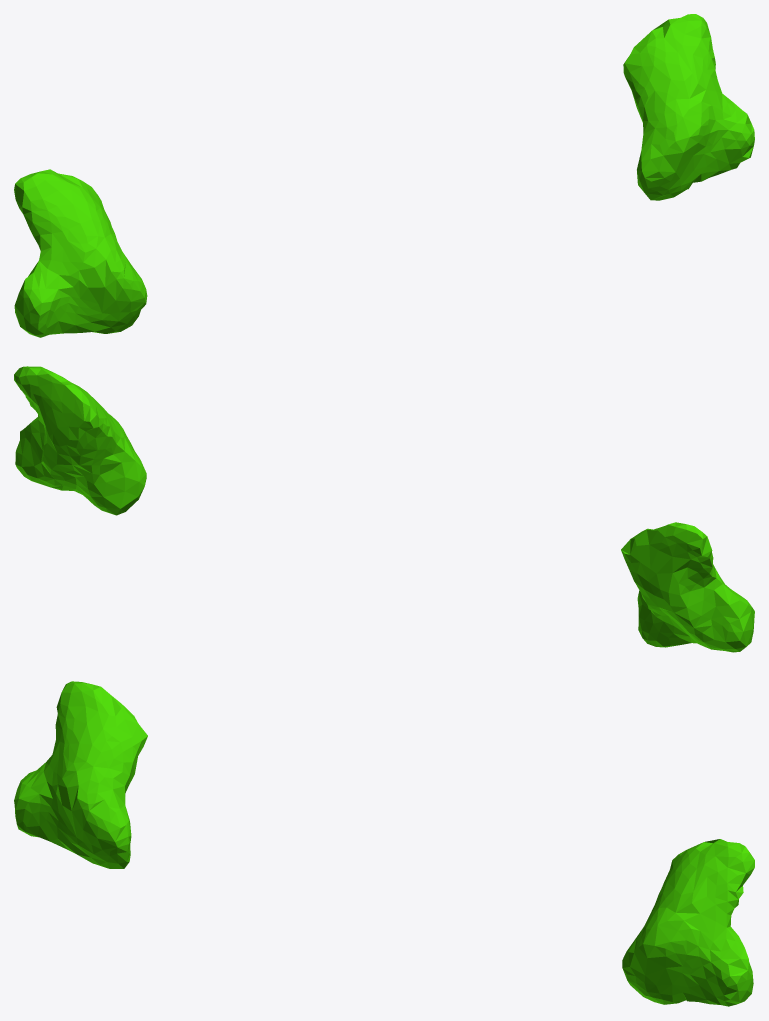
The model's file is 140-TFO-temporal area TF, occipital part-('0.3412', '1.0000', '0.0000').obj.
3 renders of one model, top to bottom at view 1: azimuth 30°, elevation 25°; view 2: azimuth 150°, elevation 25°; view 3: azimuth 330°, elevation 25°, orthographic.
Bounding box in the file's own units: 284 × 57.17 × 31.26.
